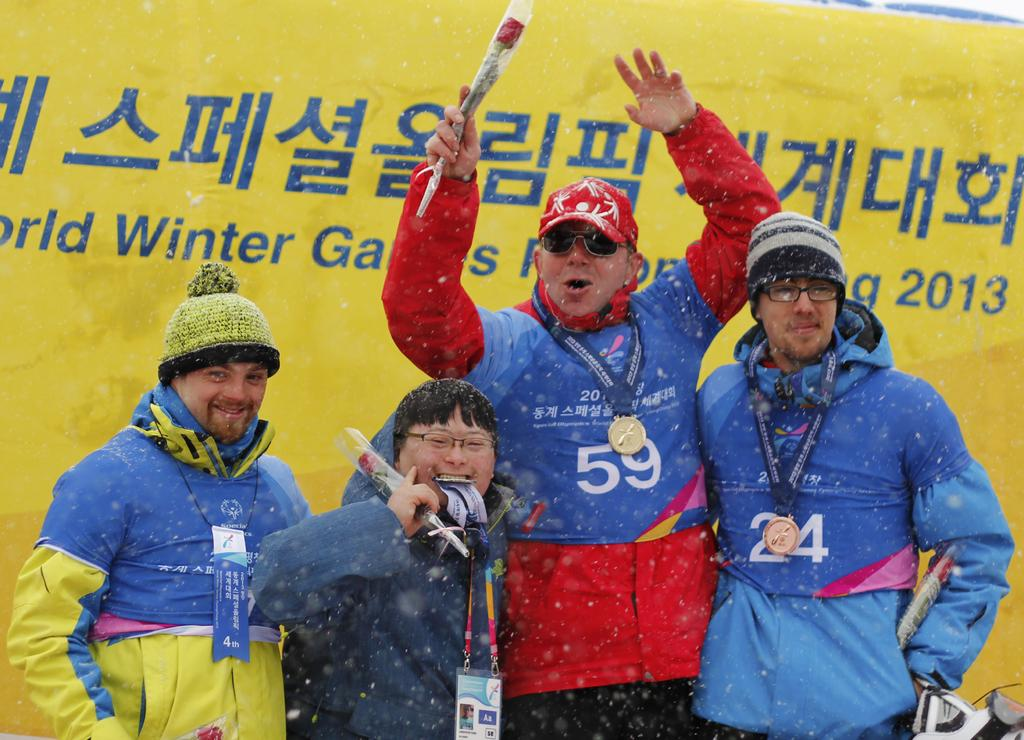Hat: (538, 177, 638, 249)
